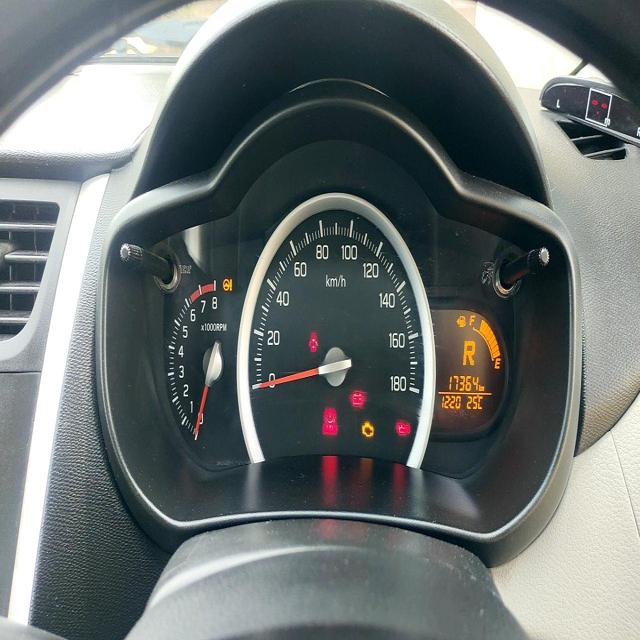odometer: (447, 372, 480, 391)
